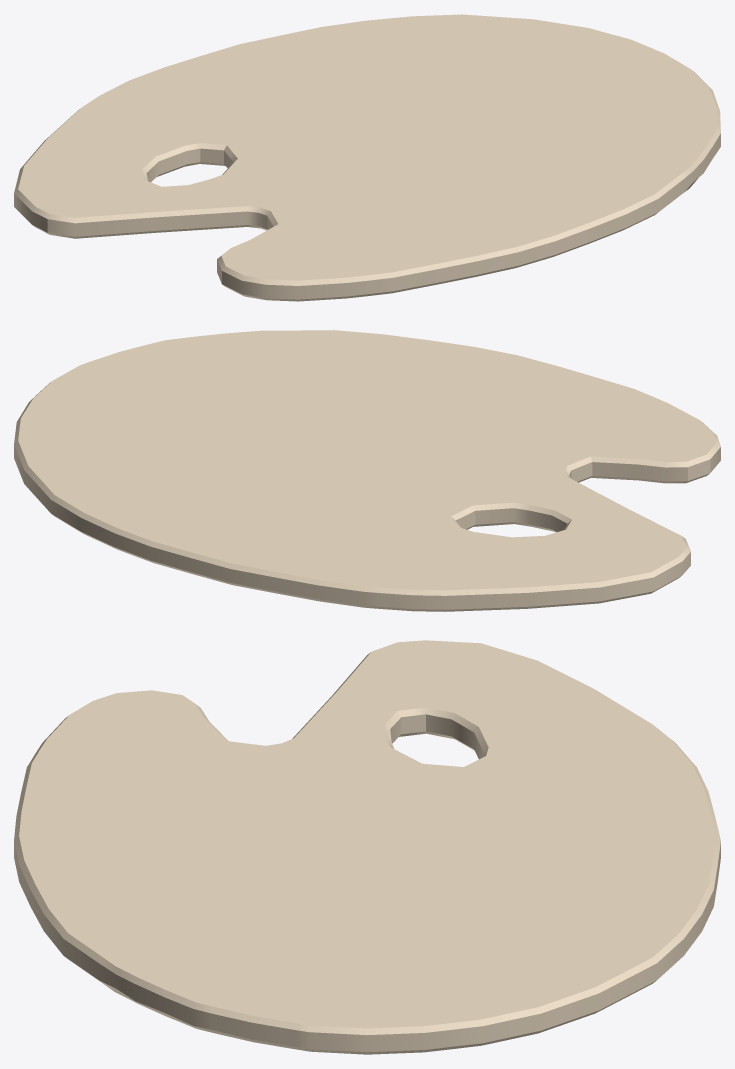
Rendered from Palette.fbx.
3 views of the same model, one above another, from view 1: azimuth 30°, elevation 25°; view 2: azimuth 150°, elevation 25°; view 3: azimuth 270°, elevation 25° (orthographic). The views are drawn at different scales.
Visible parts, largest first — view 1: pPlane1; view 2: pPlane1; view 3: pPlane1.
Part boxes in pixels (box(x1,y1,x2,y2)): pPlane1: box(14, 14, 720, 301); pPlane1: box(14, 330, 720, 611); pPlane1: box(14, 640, 720, 1054).
Size of the model in its own units: 6.41 by 0.2 by 4.88.
